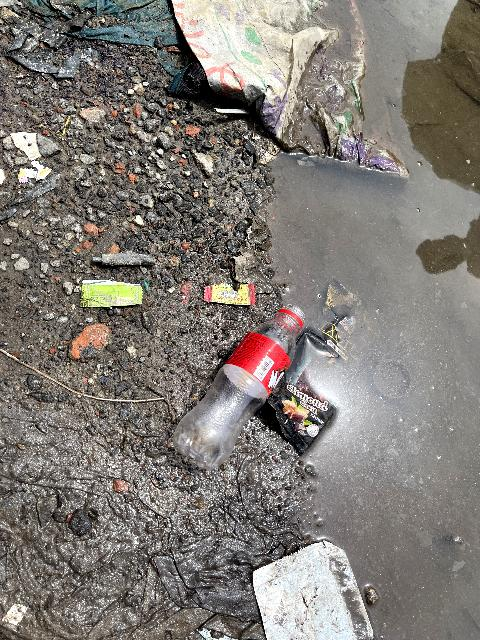bottle: (169, 310, 315, 471)
